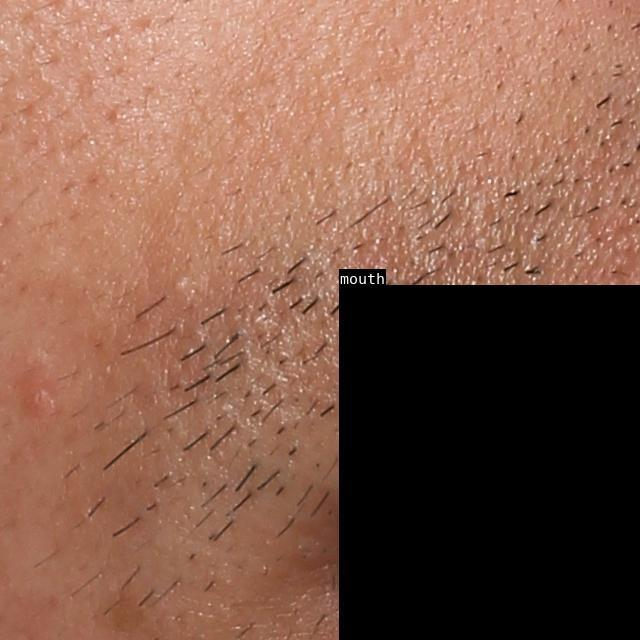comedo: (168, 268, 197, 297)
papule: (22, 375, 59, 417)
